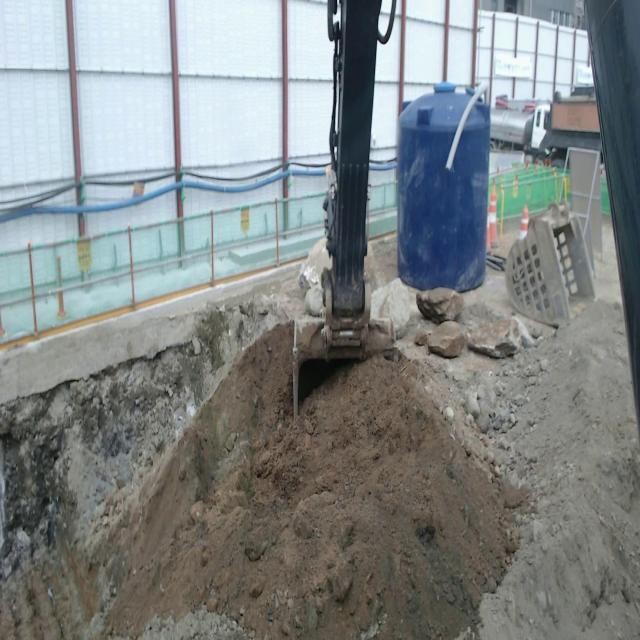cement: (0, 263, 299, 404)
red-sand: (0, 302, 640, 639)
rocks: (371, 278, 417, 337), (298, 239, 331, 317), (467, 318, 520, 358), (416, 287, 464, 323), (298, 238, 330, 291), (427, 321, 466, 358), (364, 239, 384, 289)
